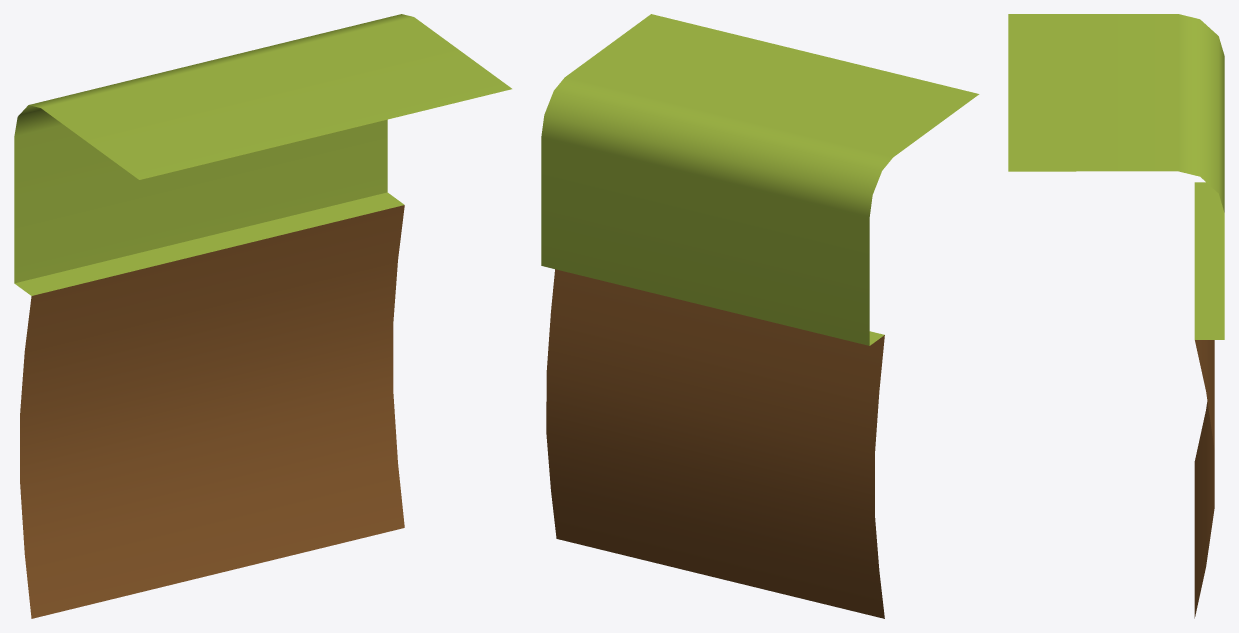
Rendered from Borda4.fbx.
The picture shows the model from 3 angles, left to right: view 1: azimuth 30°, elevation 25°; view 2: azimuth 150°, elevation 25°; view 3: azimuth 270°, elevation 25°; orthographic projection. The views are drawn at different scales.
Visible parts, largest first — view 1: Borda4; view 2: Borda4; view 3: Borda4.
Part boxes in pixels (bbox=[...]): Borda4: bbox=[14, 14, 511, 618]; Borda4: bbox=[541, 14, 979, 618]; Borda4: bbox=[1008, 14, 1224, 618].
Bounding box in the file's own units: 100 × 133 × 58.
